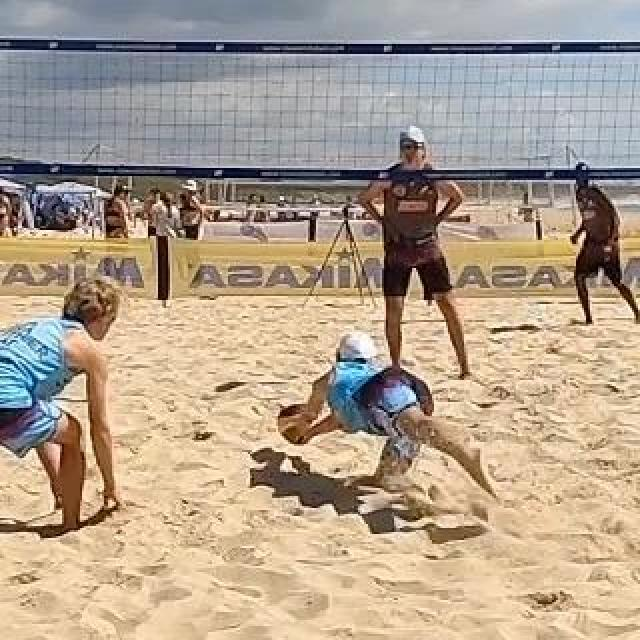volleyball: (276, 401, 322, 445)
